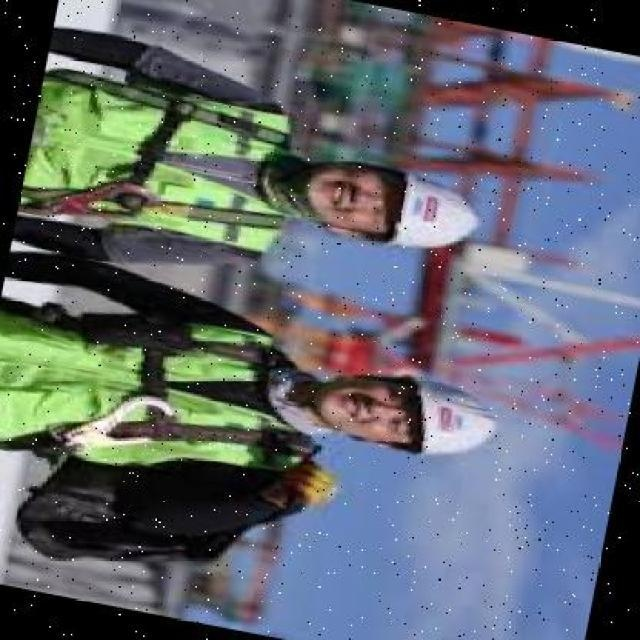Arnes_seguridad: (0, 275, 322, 477), (15, 60, 323, 263)
